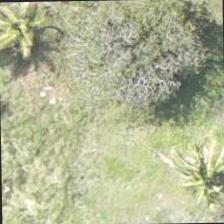Kelapa_Sawit: (0, 1, 64, 81), (173, 128, 223, 220)
